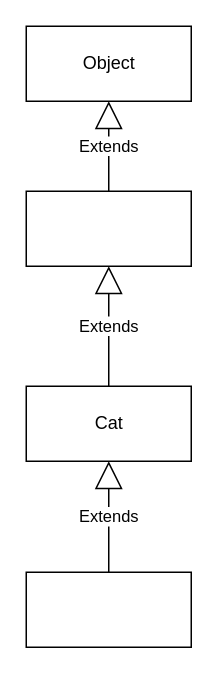
Image size: 218x674. Some labels were removed from this diagram. Here are the shapes that lost their labels. From the top down, the centre of each, then its label:
At (x=108, y=228): "Animal".
At (x=108, y=609): "KoreanBobtail".
